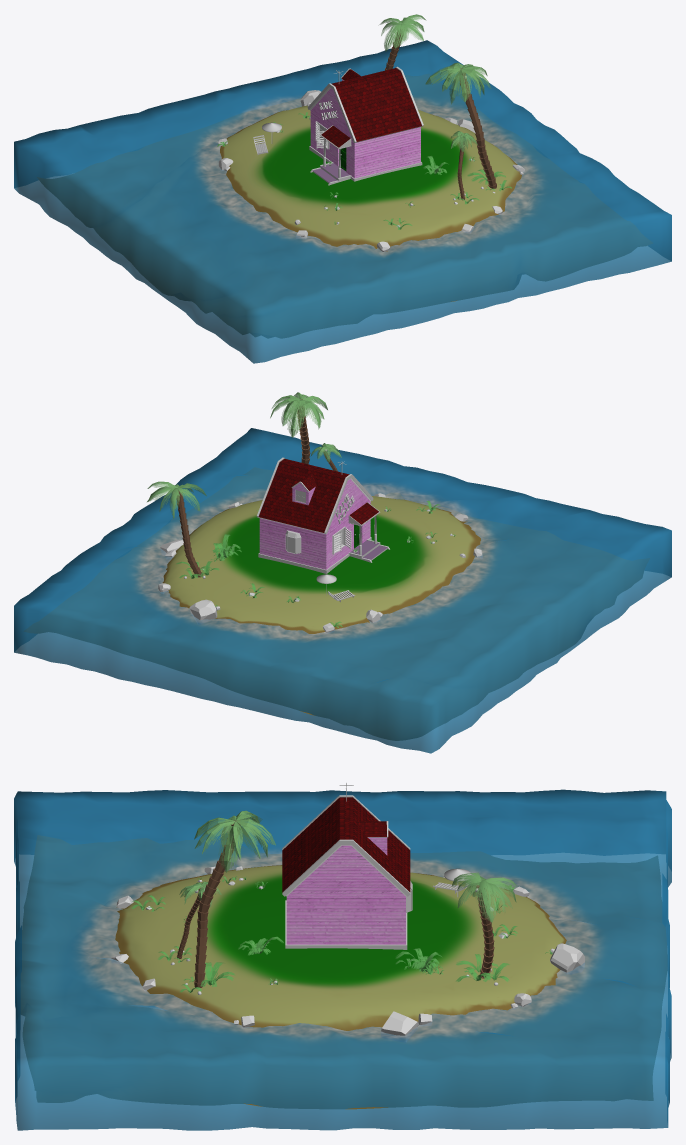
The picture shows the model from 3 angles, top to bottom: view 1: azimuth 30°, elevation 25°; view 2: azimuth 150°, elevation 25°; view 3: azimuth 270°, elevation 25°; orthographic projection. The views are drawn at different scales.
Visible parts, largest first — view 1: acqua, isola, tetto rosso, casa, palma 2.007, scale; view 2: acqua, isola, tetto rosso, casa, scale, palma 2.002; view 3: acqua, isola, casa, tetto rosso, palma 2.007, sasso.005, sasso4.003, scale, palma 2.002, Plane.087, Plane.023.
Boxes of the visible parts, x1,y1,x2,y2 form: acqua: [14, 40, 671, 363]; isola: [37, 74, 651, 337]; tetto rosso: [307, 66, 423, 143]; casa: [310, 88, 420, 178]; palma 2.007: [458, 68, 496, 188]; scale: [309, 146, 422, 185]; acqua: [14, 428, 671, 753]; isola: [25, 468, 649, 740]; tetto rosso: [256, 457, 373, 534]; casa: [259, 479, 370, 569]; scale: [258, 537, 389, 573]; palma 2.002: [176, 490, 202, 577]; acqua: [14, 789, 671, 1130]; isola: [21, 835, 666, 1109]; casa: [286, 845, 405, 944]; tetto rosso: [282, 795, 410, 896]; palma 2.007: [194, 820, 240, 987]; sasso.005: [381, 1011, 418, 1042]; sasso4.003: [550, 943, 584, 973]; scale: [285, 900, 407, 949]; palma 2.002: [476, 885, 494, 978]; Plane.087: [218, 822, 241, 872]; Plane.023: [475, 884, 498, 922].
Size of the model in its own units: 3420 by 1301 by 3420.
